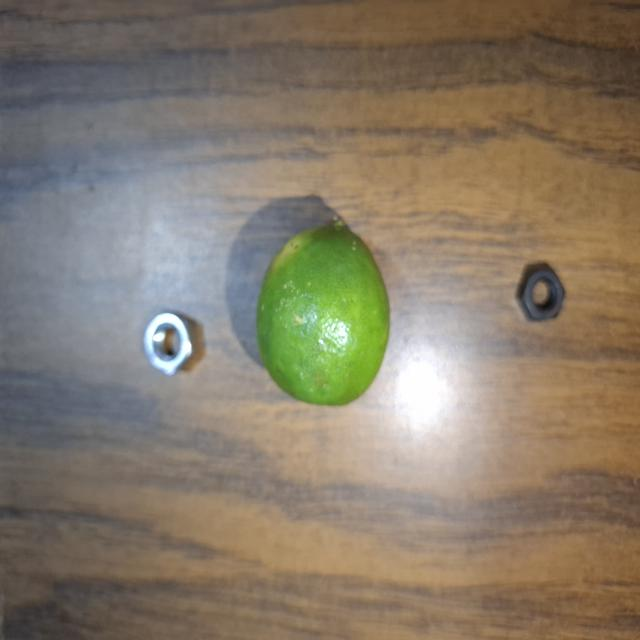limon: (252, 216, 396, 408)
milimetrico: (512, 256, 569, 333)
tuerca: (135, 307, 207, 381)
